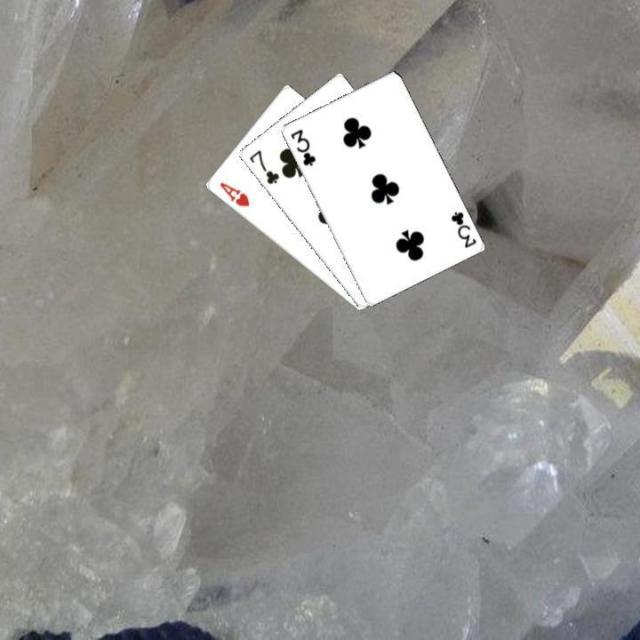3C: (286, 124, 318, 168), (446, 207, 478, 250)
7C: (244, 146, 281, 187)
AH: (216, 178, 252, 209)
